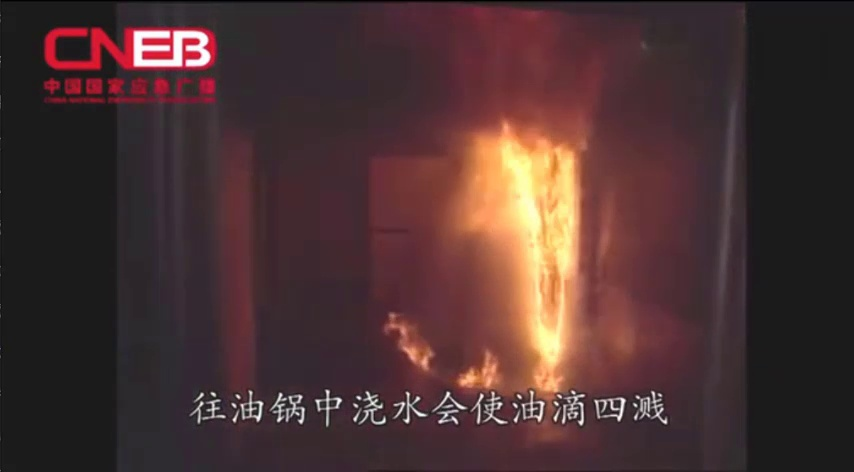fire: (445, 89, 605, 399)
